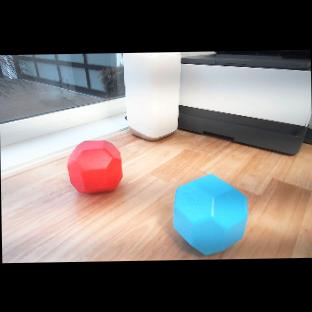V5_BLUE: (171, 172, 249, 256)
V5_RED: (66, 139, 123, 195)
